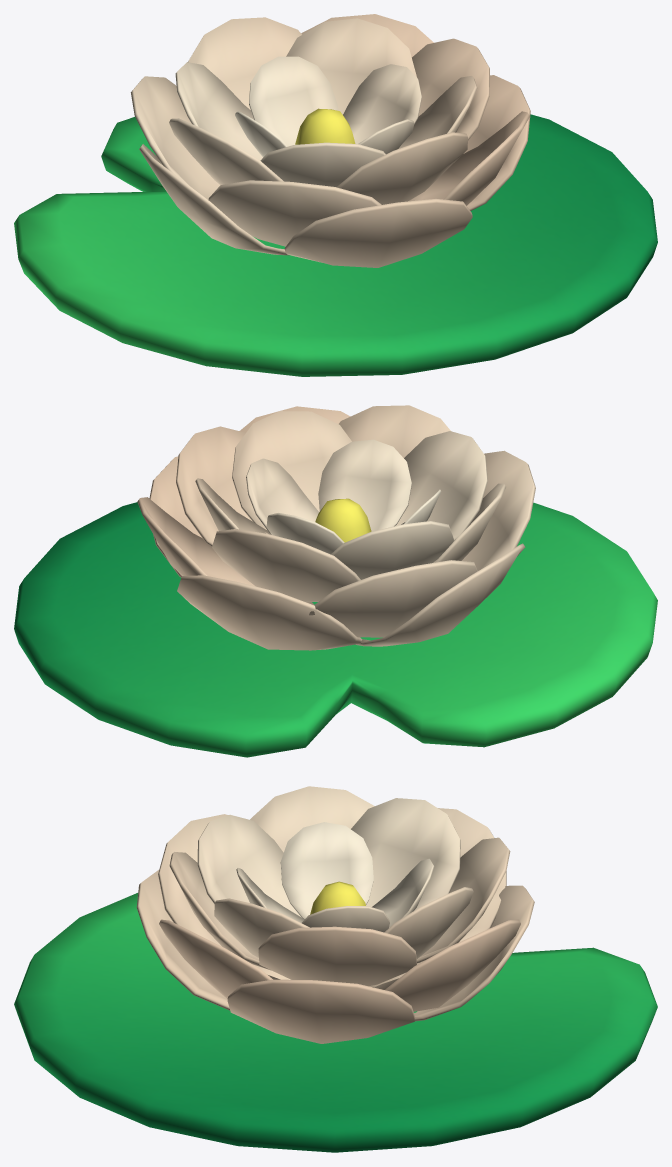
The model's file is NenufarFlorBlanca.fbx.
3 views of the same model, one above another, from view 1: azimuth 30°, elevation 25°; view 2: azimuth 150°, elevation 25°; view 3: azimuth 270°, elevation 25° (orthographic).
Visible parts, largest first — view 1: Nenufar3, Flor5; view 2: Nenufar3, Flor5; view 3: Nenufar3, Flor5.
Part boxes in pixels (x1,y1,x2,y2): Nenufar3: (14,114,657,376); Flor5: (130,14,530,267); Nenufar3: (14,502,657,757); Flor5: (137,405,535,650); Nenufar3: (14,893,657,1152); Flor5: (136,786,534,1043).
Size of the model in its own units: 187 by 59.54 by 188.
